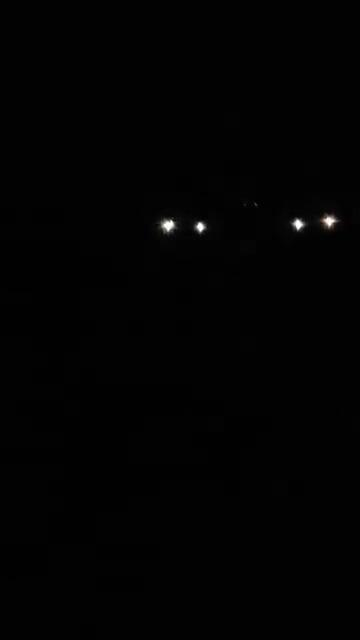Plane: (144, 186, 355, 253)
